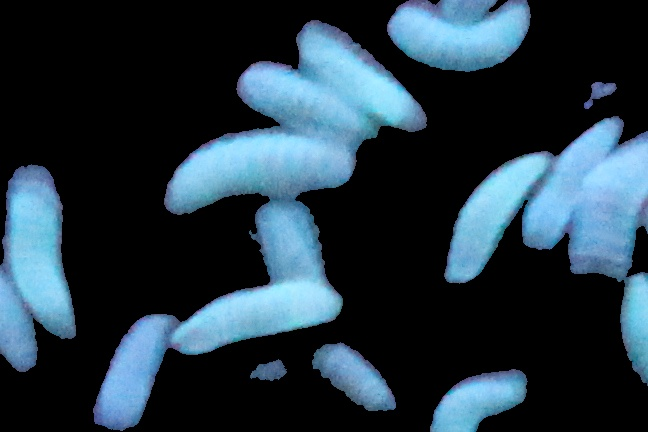larvae: (165, 131, 358, 212), (297, 24, 427, 131), (3, 165, 77, 341), (449, 154, 549, 282), (523, 118, 618, 248), (169, 286, 342, 357), (237, 64, 377, 146), (566, 132, 648, 271), (245, 342, 395, 414), (89, 313, 178, 432), (389, 4, 530, 72), (431, 367, 535, 432), (254, 204, 321, 284), (610, 272, 648, 385), (1, 268, 39, 372)
